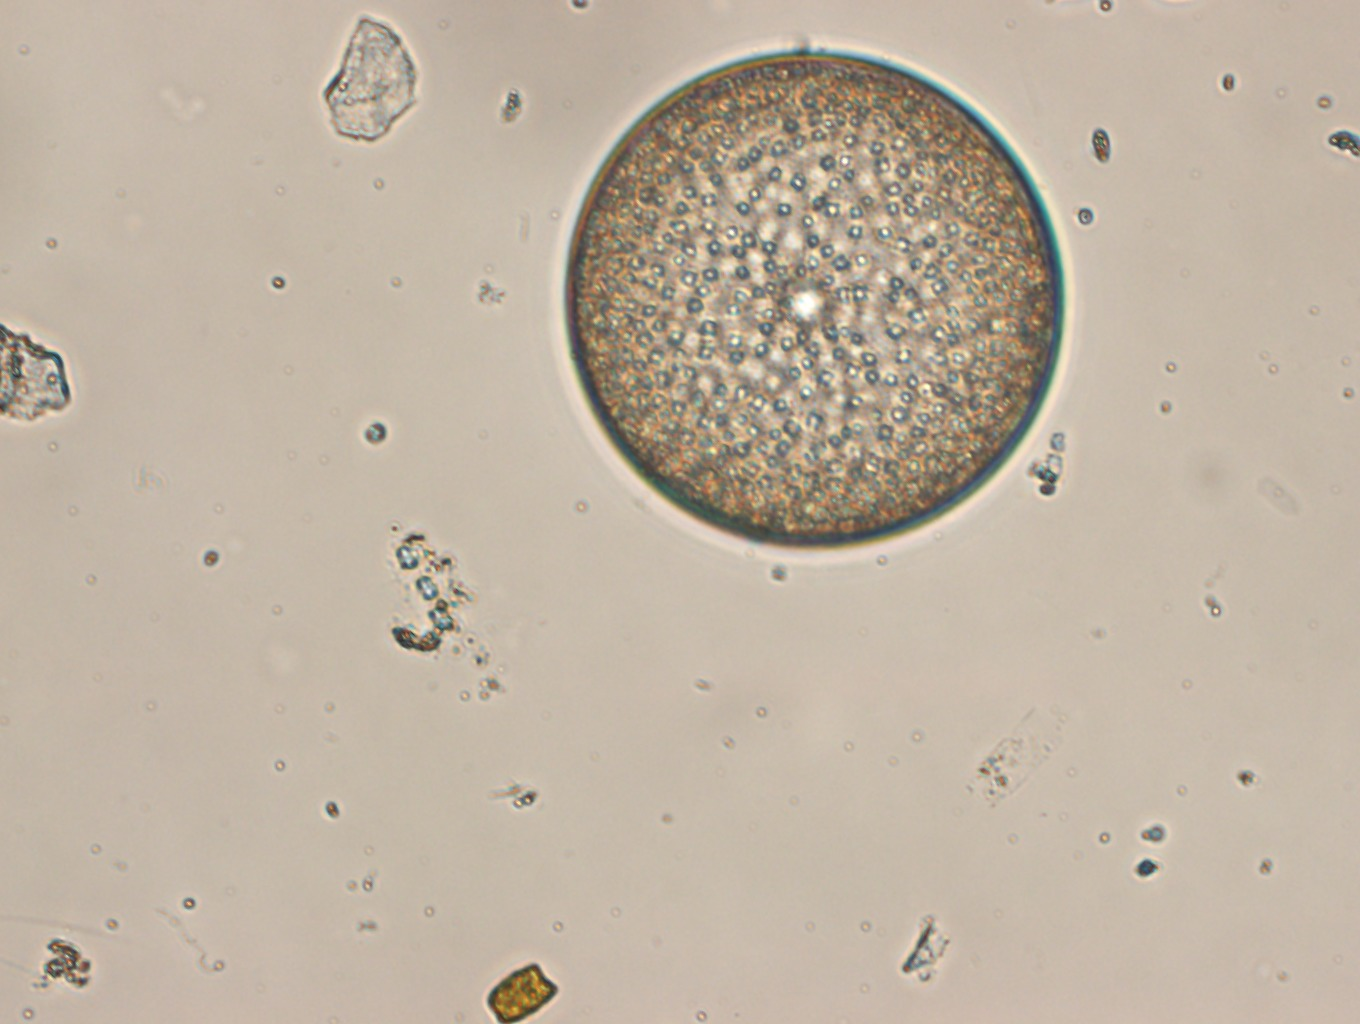coscinodiscus: (561, 45, 1071, 552)
